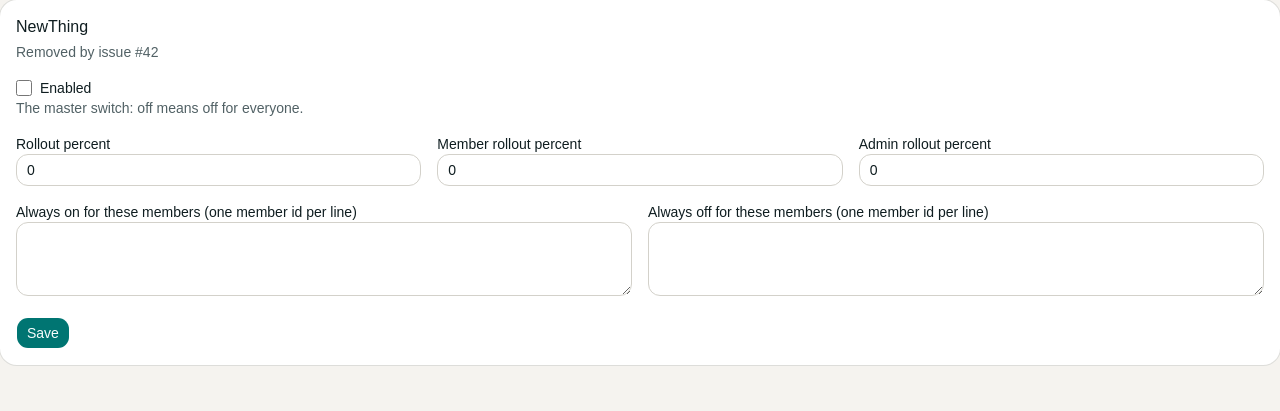
Test case: FeatureFlagsAdminPage › blocks saving a member list that is not ids
This screenshot has width=1280, height=411.
In the text box labelled "Always on for these members (one member id per line)": (324,259) [16, 222, 632, 296], type "alice"
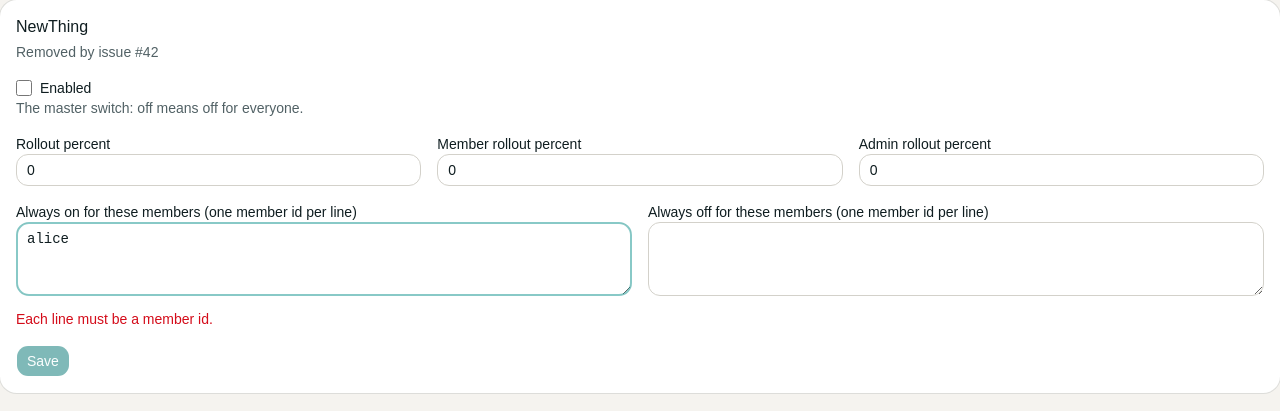
Check: the message shows "member id", box [16, 311, 213, 327]
Check: the button with aria-label "Save NewThing" is disabled, box [16, 345, 70, 377]
